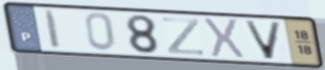0: (82, 11, 118, 53)
8: (123, 14, 161, 56)
I: (42, 8, 64, 51)
V: (241, 18, 285, 61)
X: (202, 16, 247, 61)
Z: (161, 16, 207, 57)
